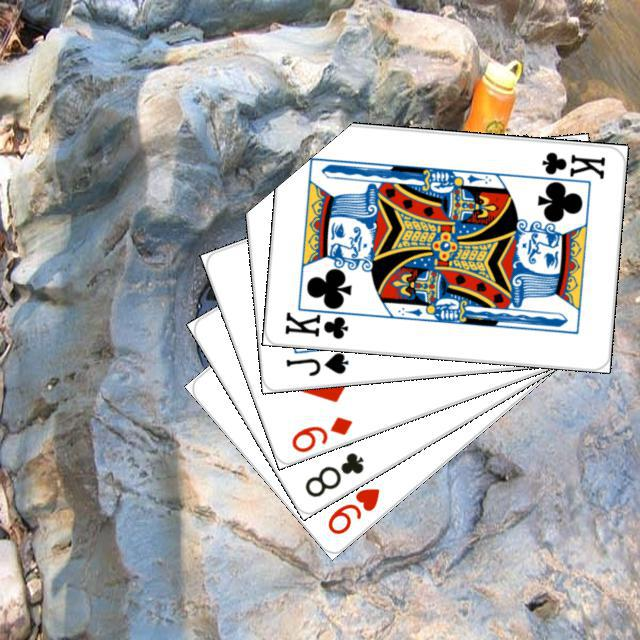8c: (299, 447, 366, 499)
9d: (286, 411, 355, 454)
9h: (322, 482, 382, 537)
Js: (280, 347, 350, 378)
Kc: (279, 301, 358, 341), (529, 147, 607, 186)
